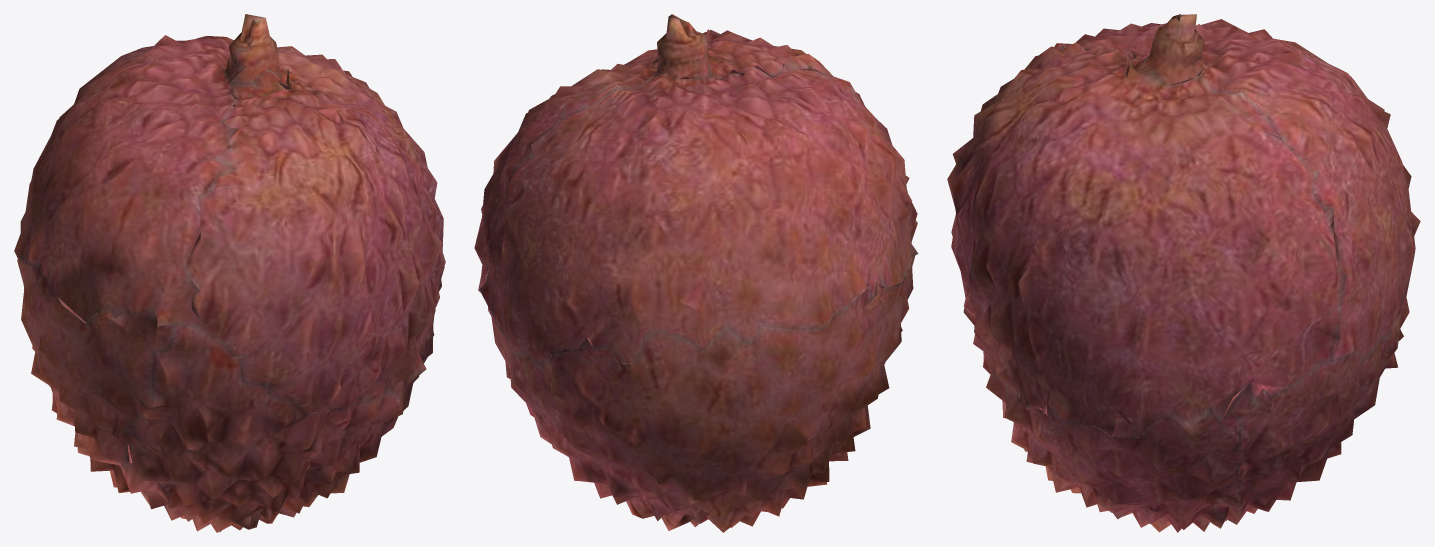
File: runtime.glb
The picture shows the model from 3 angles, left to right: view 1: azimuth 30°, elevation 25°; view 2: azimuth 150°, elevation 25°; view 3: azimuth 270°, elevation 25°; orthographic projection. The views are drawn at different scales.
Parts seen in each view (by area): view 1: food_lychee_01; view 2: food_lychee_01; view 3: food_lychee_01.
Boxes of the visible parts, left/top/right/bottom form: food_lychee_01: left=14, top=14, right=445, bottom=532; food_lychee_01: left=474, top=14, right=918, bottom=532; food_lychee_01: left=947, top=14, right=1420, bottom=532.
Size of the model in its own units: 0.0404 by 0.0505 by 0.0417.
Materials: 1 (1 with a texture image).
